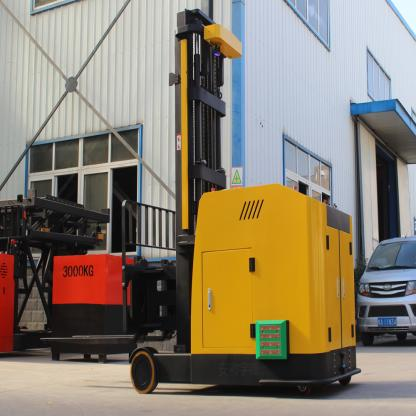forklift: (130, 6, 361, 396)
